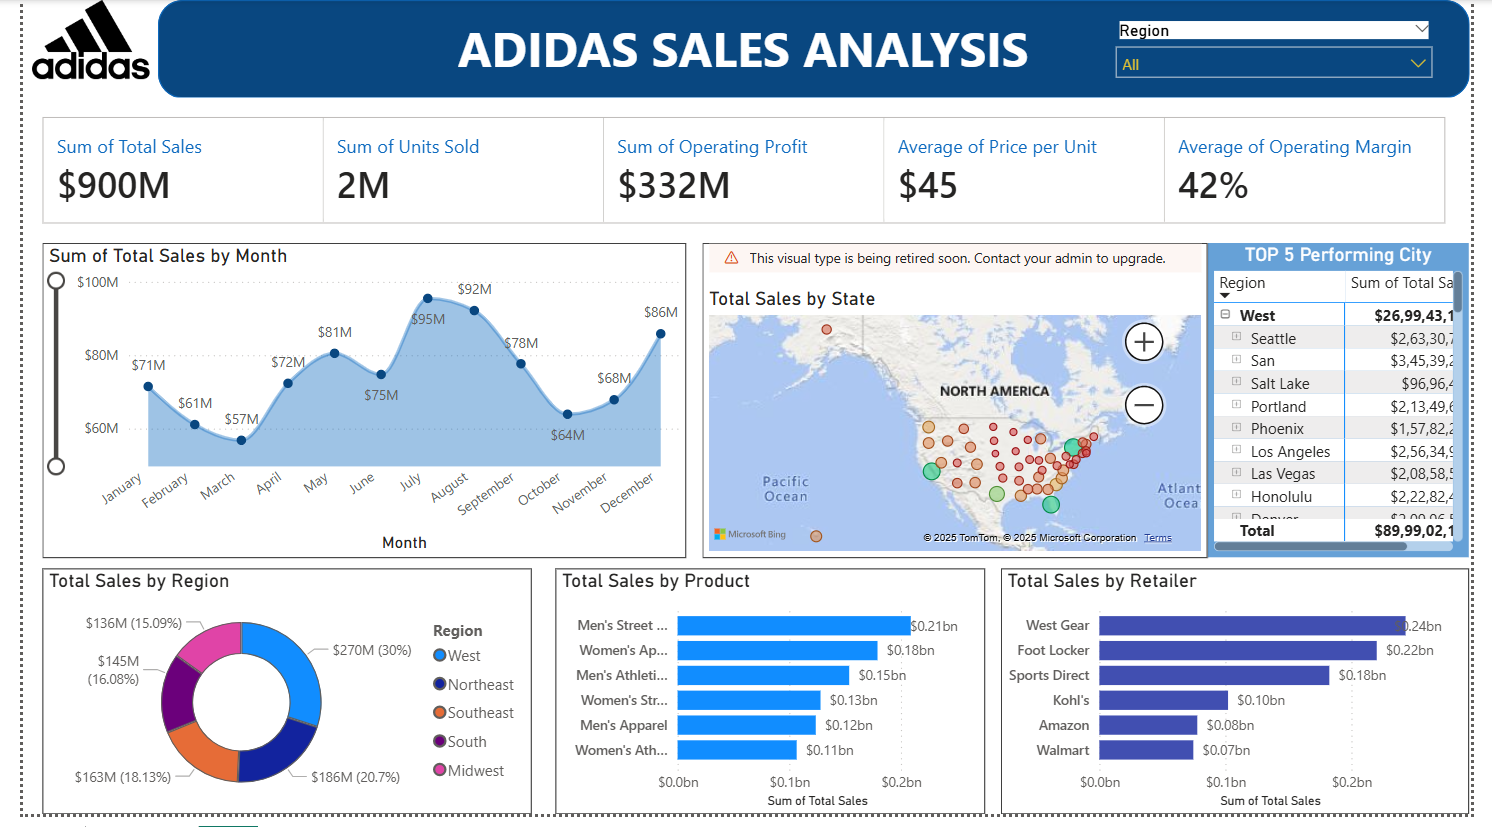

This screenshot's page, from the dashboard's own definition file:
{"tool":"powerbi","page":{"name":"Page 1","canvas":[1280,720],"ordinal":0},"visuals":[{"type":"image","box":[0,0,120,70],"z":0},{"type":"shape","box":[119.1,0,1160.3,86.9],"z":1000},{"type":"textbox","box":[379.8,7.6,521.6,71.8],"z":2000},{"type":"cardVisual","fields":{"Data":["Sum(Data Sales Adidas.Total Sales)","Sum(Data Sales Adidas.Units Sold)","Sum(Data Sales Adidas.Operating Profit)","Avg(Data Sales Adidas.Price per Unit)","Avg(Data Sales Adidas.Operating Margin)"]},"box":[0,86.5,1279.9,128.3],"z":3000},{"type":"areaChart","fields":{"Category":["Data Sales Adidas.Invoice Date.Variation.Date Hierarchy.Month"],"Y":["Sum(Data Sales Adidas.Total Sales)"]},"box":[16.7,215,569.3,278.6],"z":4000},{"type":"map","title":"Total Sales by State","fields":{"Size":["Sum(Data Sales Adidas.Total Sales)"],"Category":["Data Sales Adidas.State"]},"box":[601.1,215,446.7,278.6],"z":5000},{"type":"donutChart","title":"Total Sales by Region","fields":{"Category":["Data Sales Adidas.Region"],"Y":["Sum(Data Sales Adidas.Total Sales)"]},"box":[17,502.7,432.8,217.3],"z":6000},{"type":"barChart","title":"Total Sales by Product","fields":{"Category":["Data Sales Adidas.Product"],"Y":["Sum(Data Sales Adidas.Total Sales)"]},"box":[470.6,502.7,379.8,217.3],"z":7000},{"type":"barChart","title":"Total Sales by Retailer","fields":{"Y":["Sum(Data Sales Adidas.Total Sales)"],"Category":["Data Sales Adidas.Retailer"]},"box":[865.5,502.7,413.9,217.3],"z":8000},{"type":"slicer","fields":{"Values":["Data Sales Adidas.Region"]},"box":[957,13.6,299.8,62.1],"z":9000},{"type":"pivotTable","title":"TOP 5 Performing City","fields":{"Rows":["Data Sales Adidas.Region","Data Sales Adidas.City","Data Sales Adidas.State"],"Values":["Sum(Data Sales Adidas.Total Sales)"]},"box":[1048.8,215.4,230.6,277.8],"z":9001}]}

Visuals, with their boxes in screenshot pixels (x1, y1, x2, y2), scaled from the page's 1280x720 canvas onto the 1492x827 screenshot:
image: detection(0, 0, 140, 80)
shape: detection(139, 0, 1491, 100)
textbox: detection(443, 9, 1051, 91)
cardVisual - Sum(Data Sales Adidas.Total Sales) x Sum(Data Sales Adidas.Units Sold): detection(0, 99, 1491, 247)
areaChart - Data Sales Adidas.Invoice Date.Variation.Date Hierarchy.Month x Sum(Data Sales Adidas.Total Sales): detection(19, 247, 683, 567)
"Total Sales by State" map: detection(701, 247, 1221, 567)
"Total Sales by Region" donutChart: detection(20, 577, 524, 826)
"Total Sales by Product" barChart: detection(549, 577, 991, 826)
"Total Sales by Retailer" barChart: detection(1009, 577, 1491, 826)
slicer - Data Sales Adidas.Region: detection(1116, 16, 1465, 87)
"TOP 5 Performing City" pivotTable: detection(1223, 247, 1491, 566)
